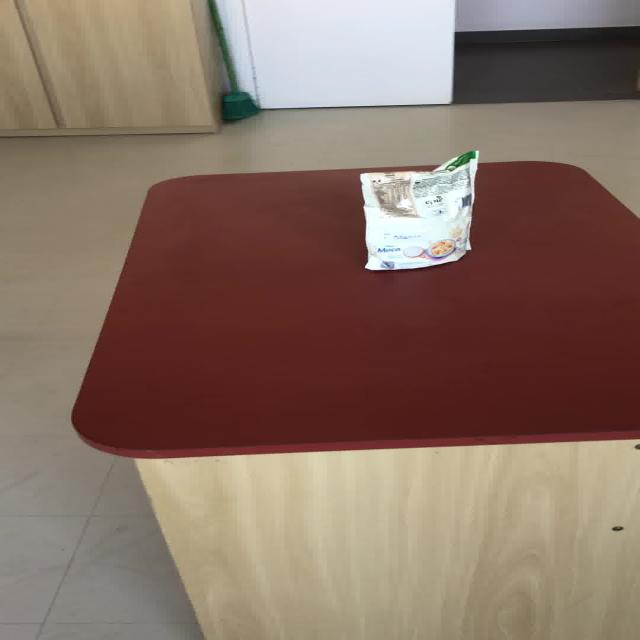corn flakes: (358, 149, 478, 270)
